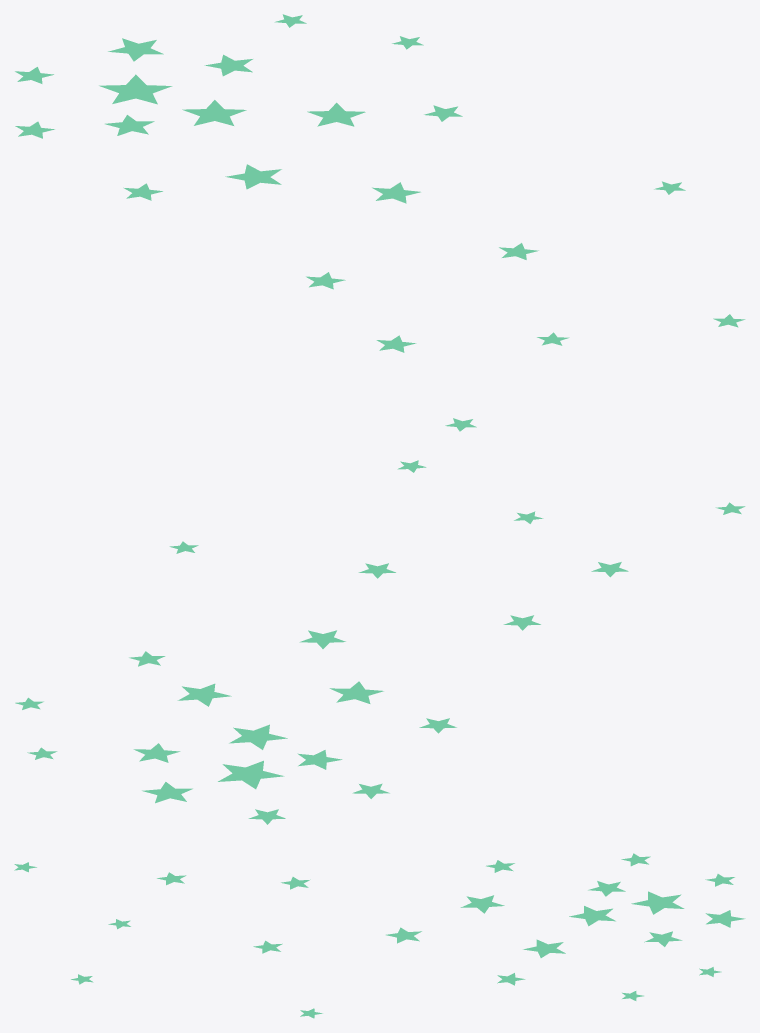
File: StarsRoof.fbx
The picture shows the model from 3 angles, top to bottom: view 1: azimuth 30°, elevation 25°; view 2: azimuth 150°, elevation 25°; view 3: azimuth 270°, elevation 25°; orthographic projection. The views are drawn at different scales.
Parts seen in each view (by area): view 1: Stars_Roof; view 2: Stars_Roof; view 3: Stars_Roof.
Boxes of the visible parts, bbox=[...] form: Stars_Roof: bbox=[15, 14, 745, 431]; Stars_Roof: bbox=[15, 460, 745, 824]; Stars_Roof: bbox=[14, 853, 745, 1018].
Bounding box in the file's own units: 92.41 × 0 × 173.
